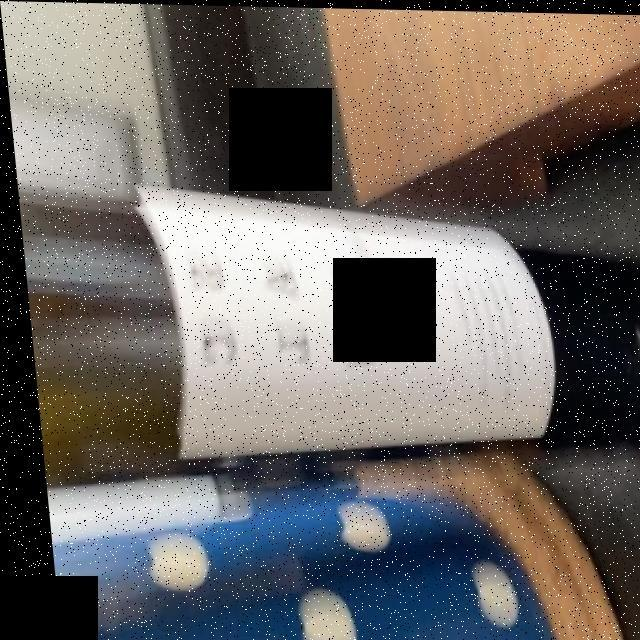wine: (138, 538, 193, 589)
